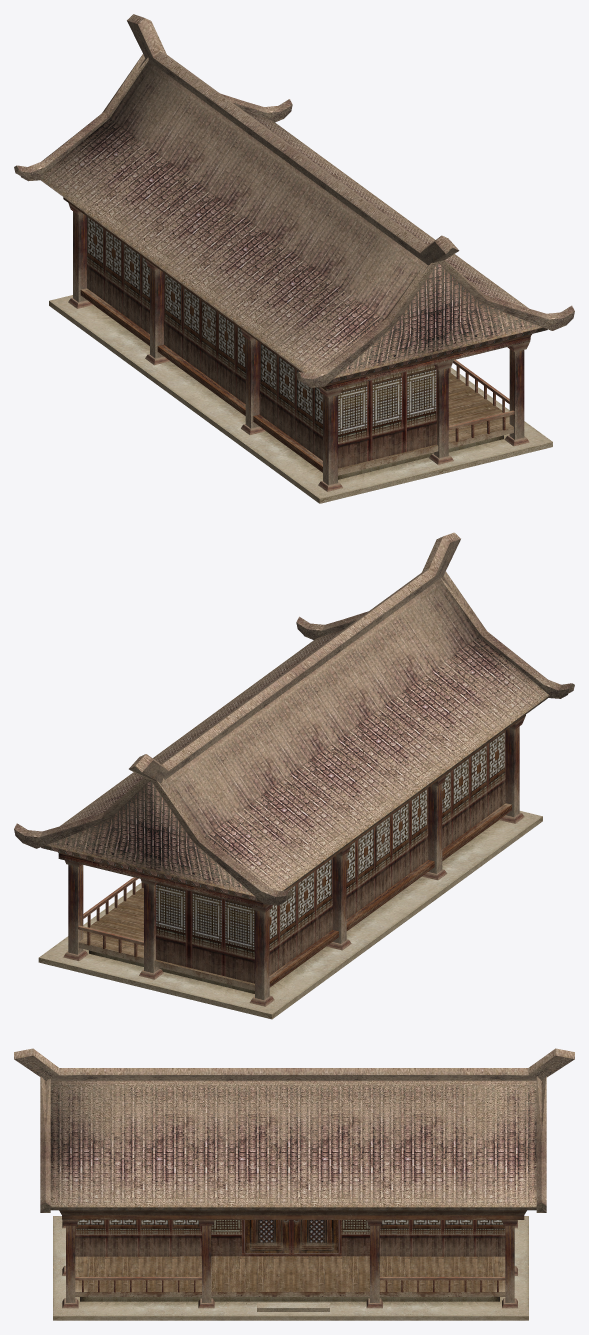
Rendered from desert-033-guesthouse-02.glb.
The picture shows the model from 3 angles, top to bottom: view 1: azimuth 30°, elevation 25°; view 2: azimuth 150°, elevation 25°; view 3: azimuth 270°, elevation 25°; orthographic projection. The views are drawn at different scales.
Visible parts, largest first — view 1: desert-033-guesthouse-01, desert-033-guesthouse-02; view 2: desert-033-guesthouse-01, desert-033-guesthouse-02; view 3: desert-033-guesthouse-01, desert-033-guesthouse-02.
Part boxes in pixels (x1=…): desert-033-guesthouse-01: x1=14, y1=14, x2=574, y2=491; desert-033-guesthouse-02: x1=49, y1=211, x2=552, y2=503; desert-033-guesthouse-01: x1=14, y1=532, x2=574, y2=1006; desert-033-guesthouse-02: x1=38, y1=726, x2=542, y2=1019; desert-033-guesthouse-01: x1=14, y1=1048, x2=574, y2=1311; desert-033-guesthouse-02: x1=53, y1=1210, x2=528, y2=1320.
Size of the model in its own units: 13.56 by 11.85 by 27.45.
2 materials, 2 textured.
